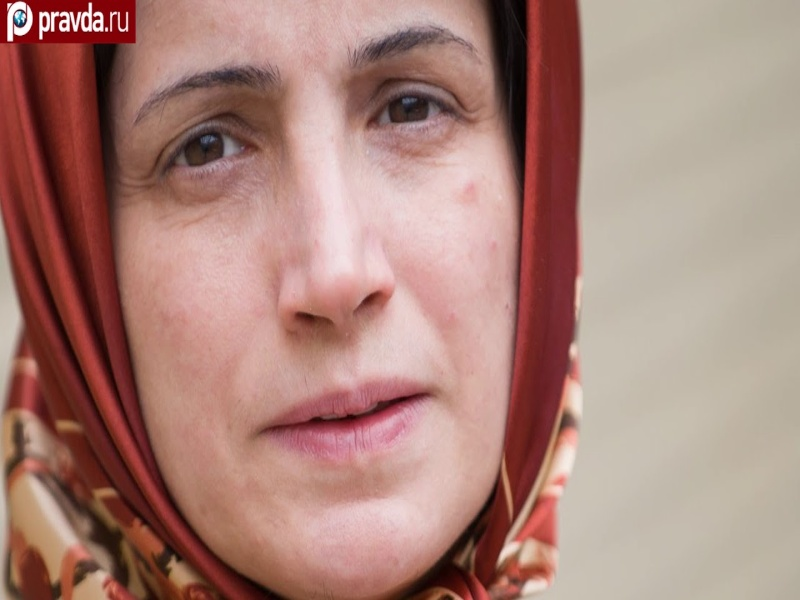face: (108, 41, 515, 534)
